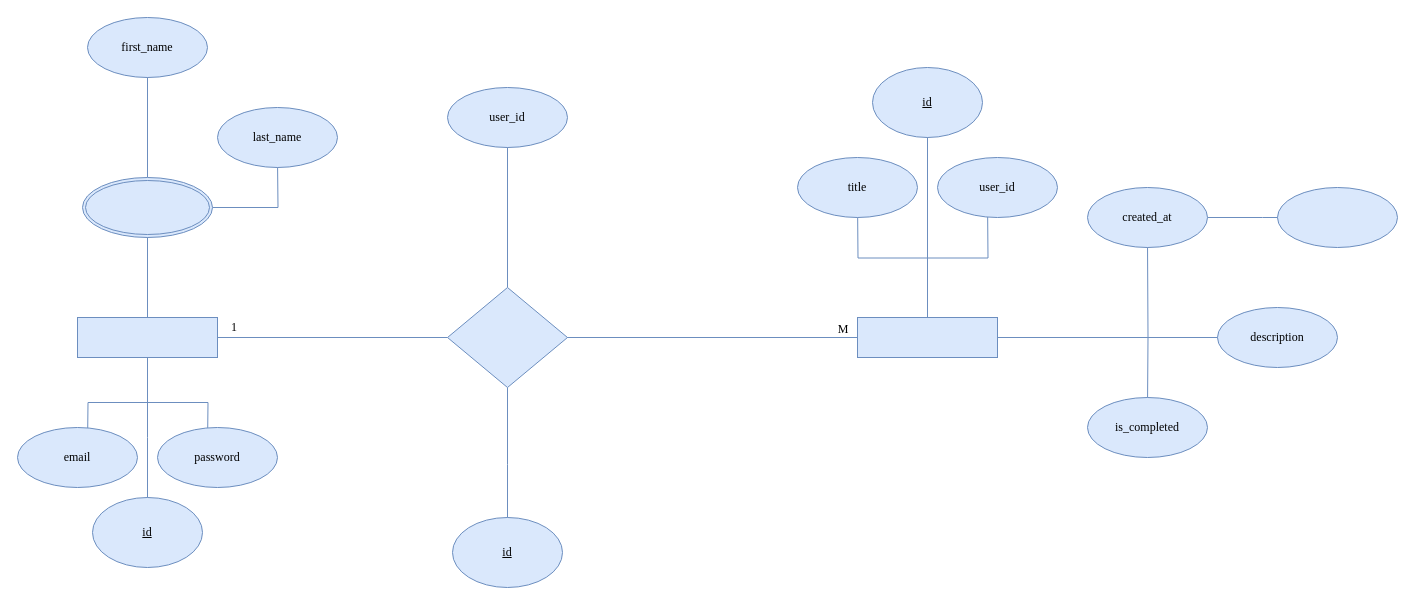
Some shapes in this 1415 by 605 pixel diagram are drawn without their labels. The centre of each missing label's shape, as x and y in pixels:
"Has Many" belongs at pixel 507 337.
"name" belongs at pixel 147 207.
"tasks" belongs at pixel 927 337.
"updated_at" belongs at pixel 1337 217.
"users" belongs at pixel 147 337.
